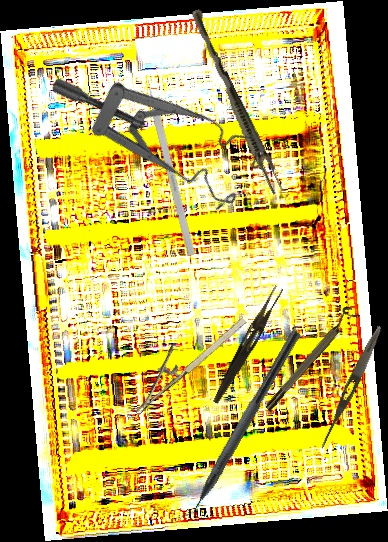Chopper: (168, 321, 302, 534)
Dressing Forceps: (210, 282, 285, 408), (316, 323, 386, 453)
Fixation Ring: (259, 304, 360, 413)
Hook Surgical: (142, 73, 196, 257)
Needle Holder: (116, 299, 250, 416)
Speculum: (48, 5, 278, 243)
Tissue Forceps: (184, 8, 288, 196)
